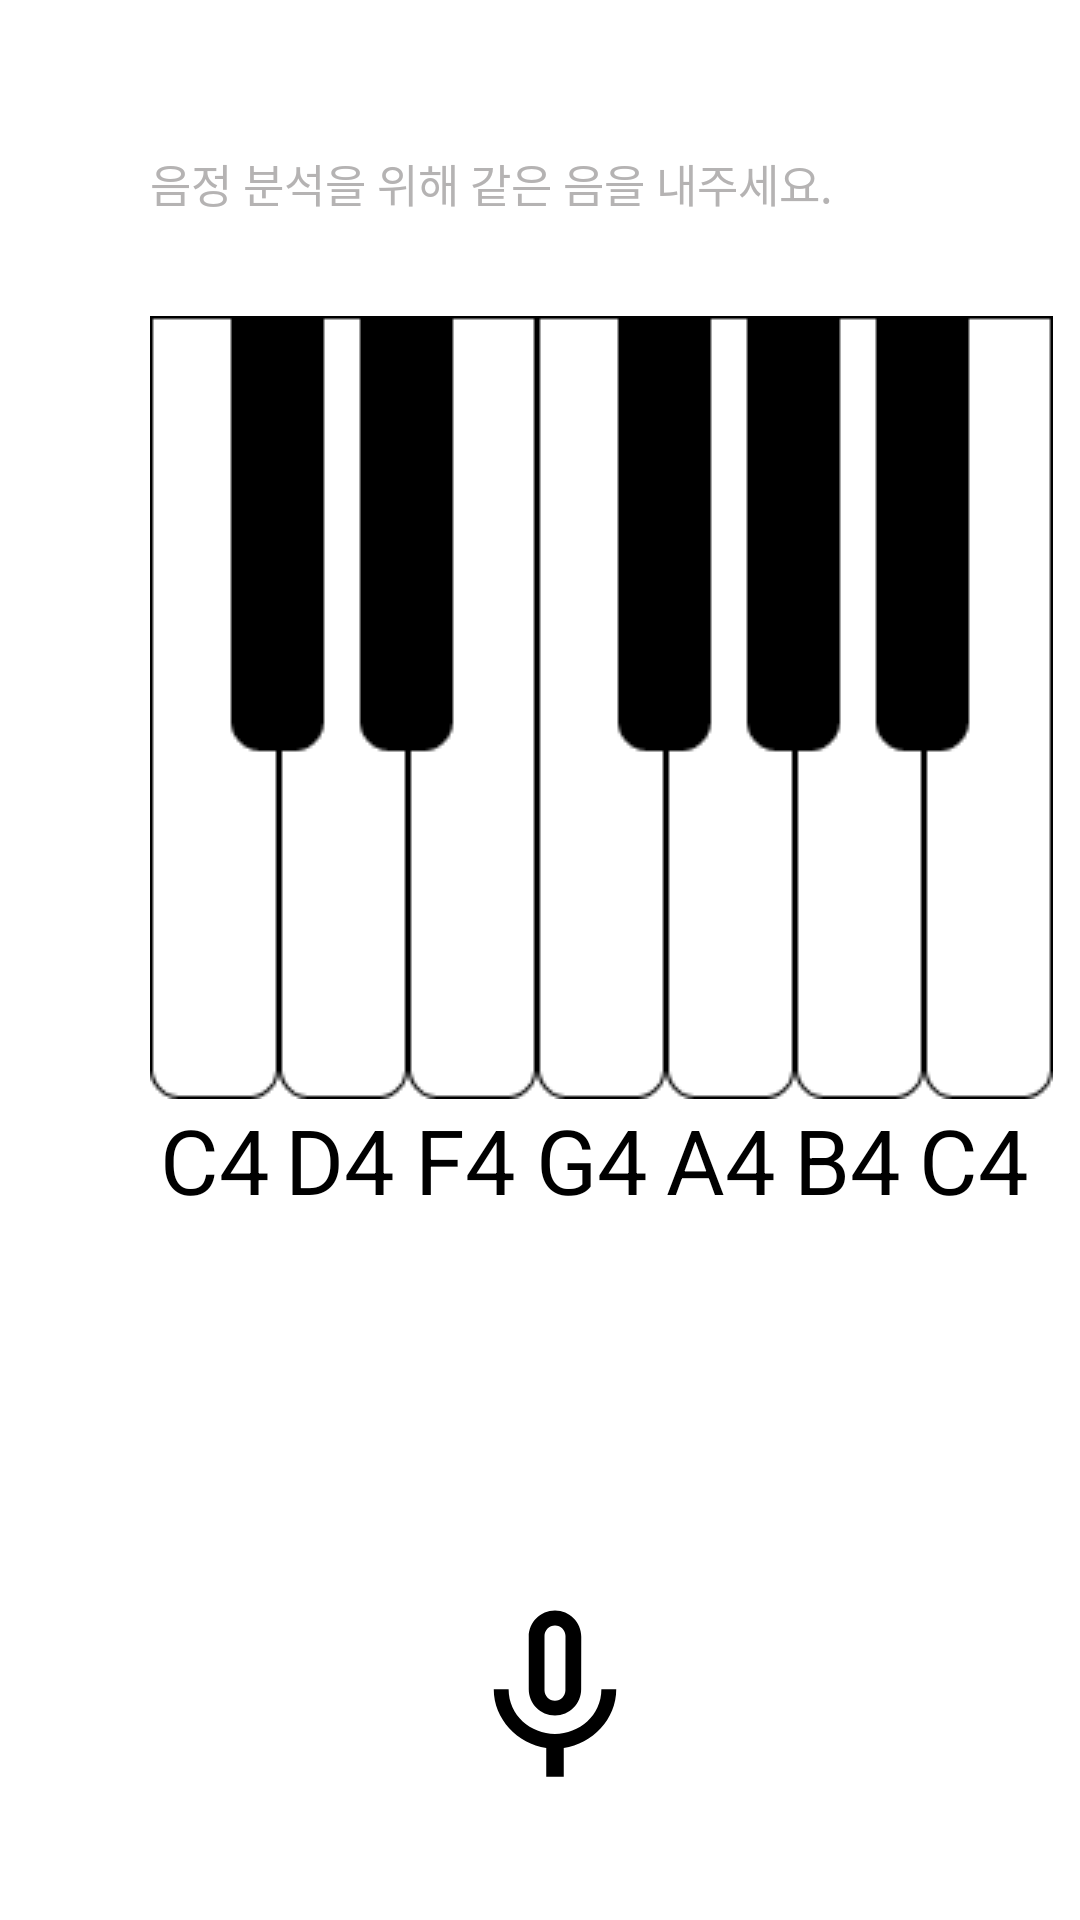

Named icons in this screenshot (1080w x 1920h) and their bounding boxes, (x1, y1, x2, y2):
mic none: (493, 1610, 617, 1777)
